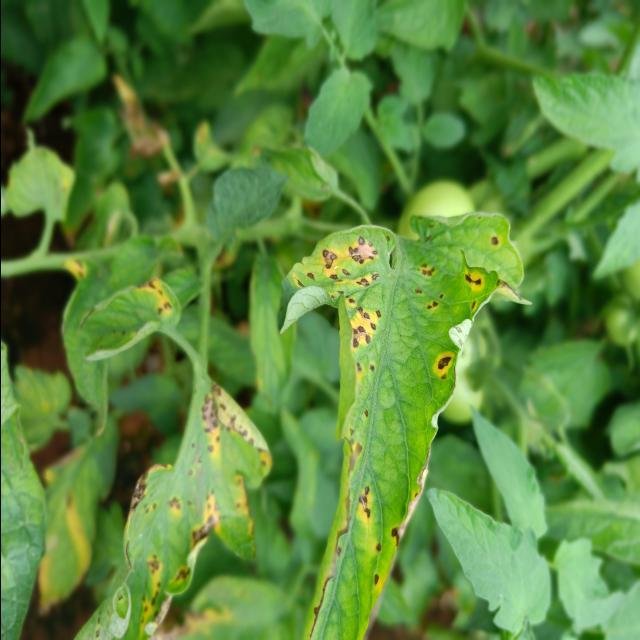Tomato mosaic virus leaf: (272, 203, 533, 640)
